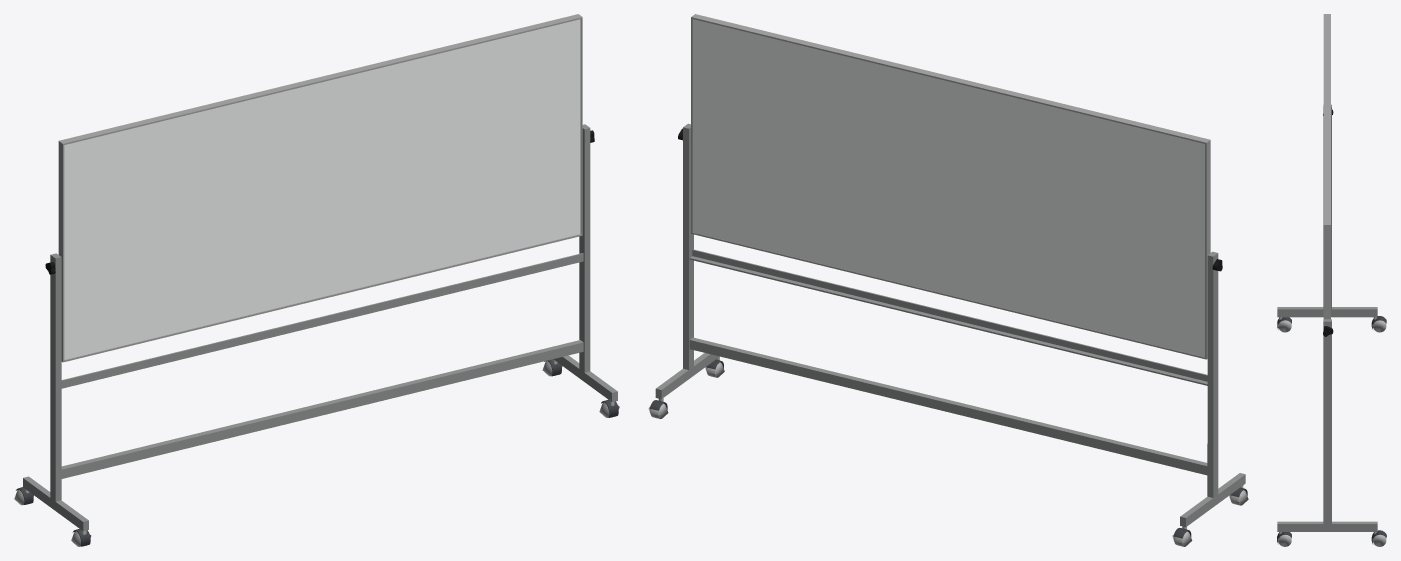
Rendered from pizarra.glb.
3 renders of one model, left to right at view 1: azimuth 30°, elevation 25°; view 2: azimuth 150°, elevation 25°; view 3: azimuth 270°, elevation 25°, orthographic. The views are drawn at different scales.
Visible parts, largest first — view 1: Object_4; view 2: Object_4; view 3: Object_4.
Boxes of the visible parts, bbox=[...] form: Object_4: bbox=[14, 14, 619, 546]; Object_4: bbox=[648, 14, 1248, 546]; Object_4: bbox=[1277, 14, 1386, 546].
Bounding box in the file's own units: 3.7 × 2.47 × 0.771.
Materials: 1 (1 with a texture image).
